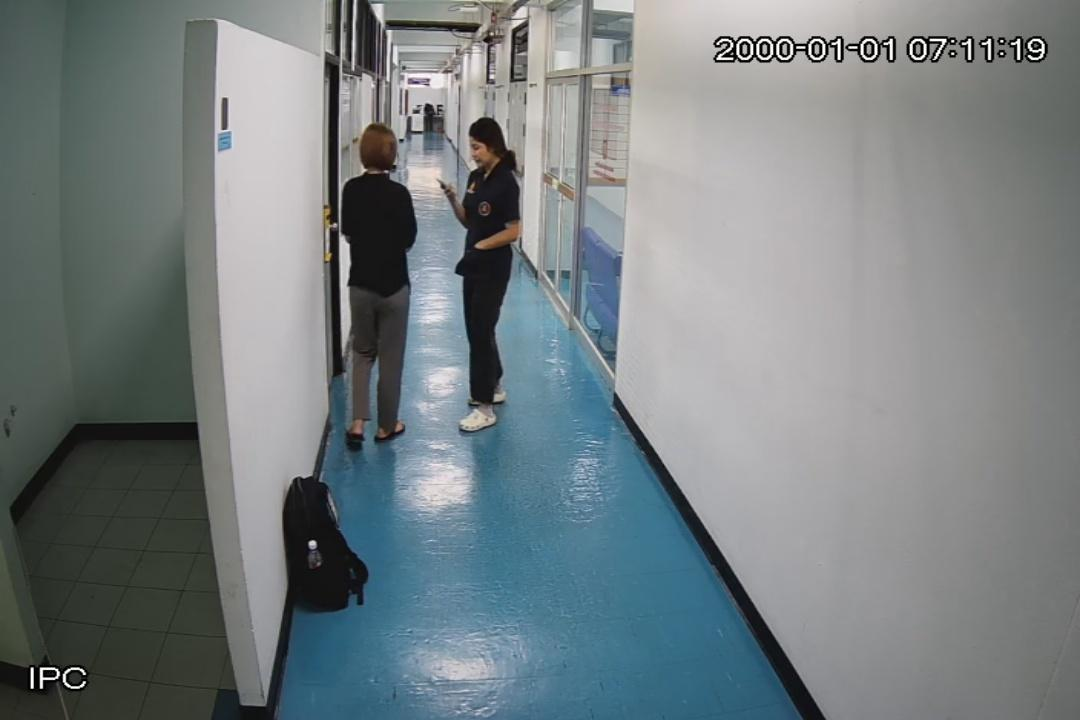normal: (338, 122, 419, 449), (444, 117, 523, 431)
